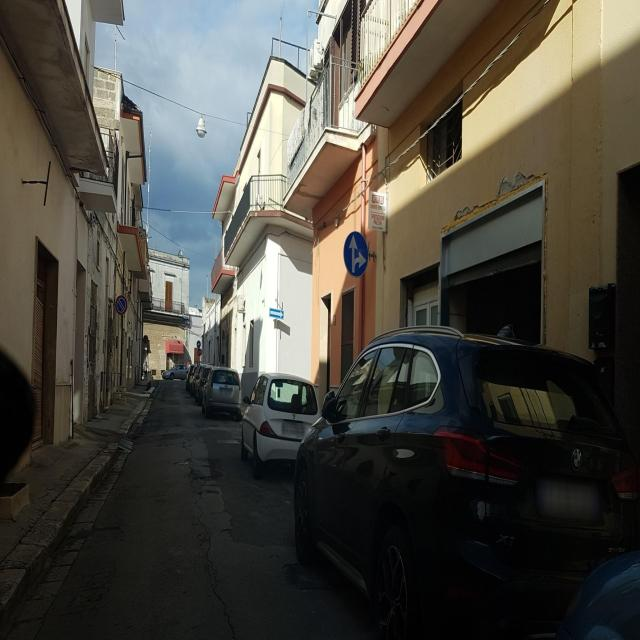forb_stopping: (115, 296, 128, 316)
